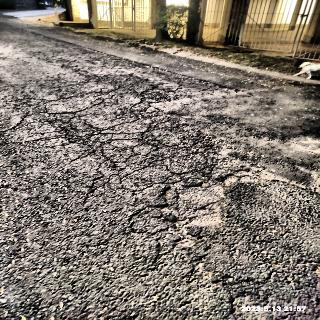alligator-crack: (31, 78, 320, 284)
